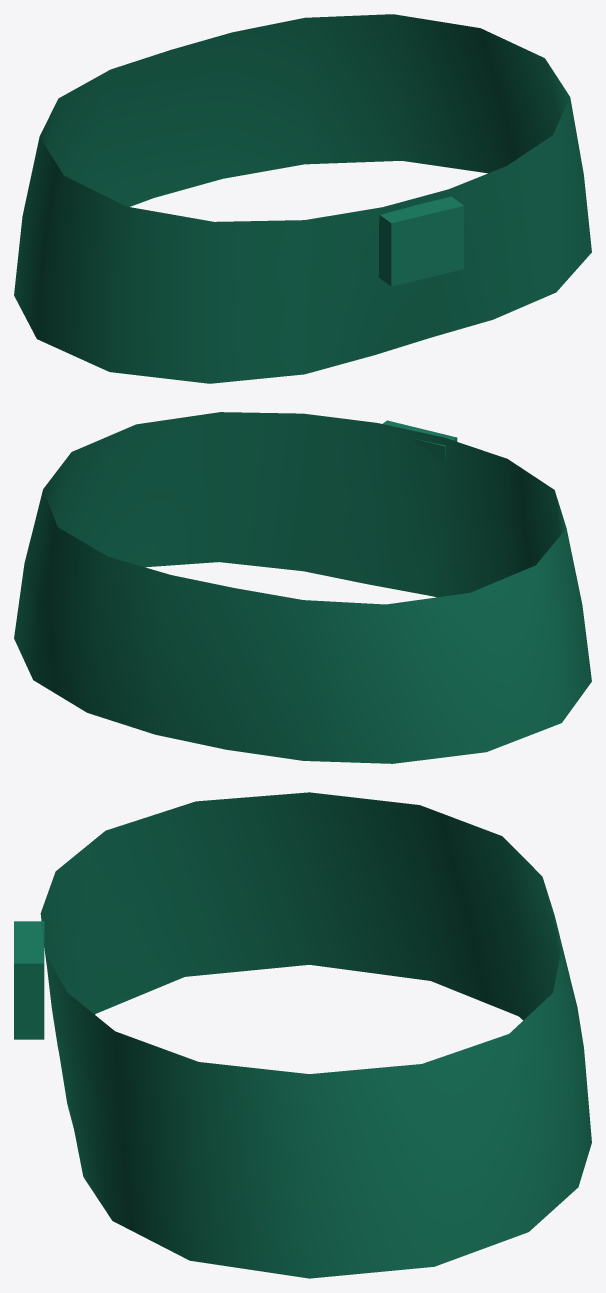
File: mythril_armor_belt.glb
3 renders of one model, top to bottom at view 1: azimuth 30°, elevation 25°; view 2: azimuth 150°, elevation 25°; view 3: azimuth 270°, elevation 25°, orthographic. The views are drawn at different scales.
Parts seen in each view (by area): view 1: mythril_armor_belt; view 2: mythril_armor_belt; view 3: mythril_armor_belt.
Part boxes in pixels (bbox=[...]): mythril_armor_belt: bbox=[14, 14, 591, 383]; mythril_armor_belt: bbox=[14, 412, 591, 763]; mythril_armor_belt: bbox=[14, 792, 591, 1278].
Bounding box in the file's own units: 0.4427 × 0.1238 × 0.3446.
